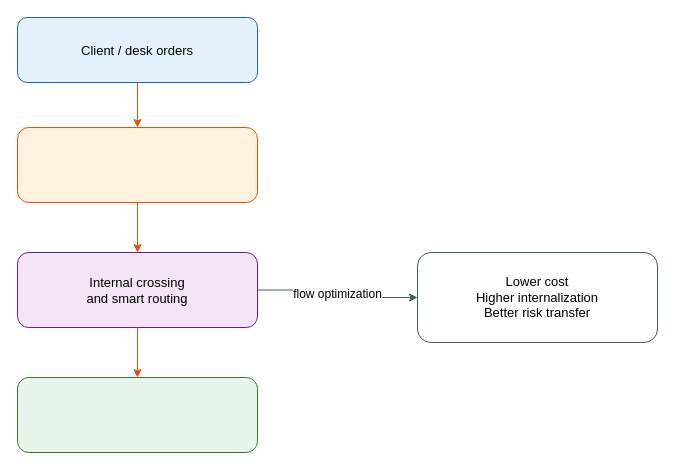
This 675x470 diagram has some shape labels left out. Each missing label, with the centre of its shape:
External execution only residual risk: pixel 137 414
Internal flow map inventory, RFQ, inquiry, axes: pixel 137 164
